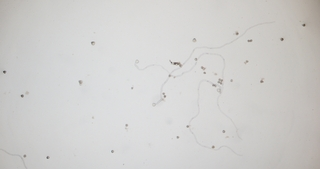germinated: (133, 58, 141, 70), (151, 99, 161, 107), (215, 84, 222, 94)
nongerminated: (76, 77, 86, 86), (258, 77, 267, 86), (300, 20, 308, 29), (190, 36, 199, 44), (278, 35, 286, 43), (88, 39, 96, 47), (108, 148, 116, 156), (127, 85, 136, 92), (0, 68, 8, 75), (184, 123, 191, 131), (174, 134, 182, 141), (44, 154, 52, 161), (21, 152, 29, 159), (18, 93, 25, 100), (227, 78, 234, 85), (233, 30, 241, 36), (220, 128, 228, 134), (122, 122, 130, 128), (210, 144, 217, 150), (193, 56, 199, 63), (161, 94, 168, 100), (159, 90, 166, 96), (202, 71, 208, 77)
